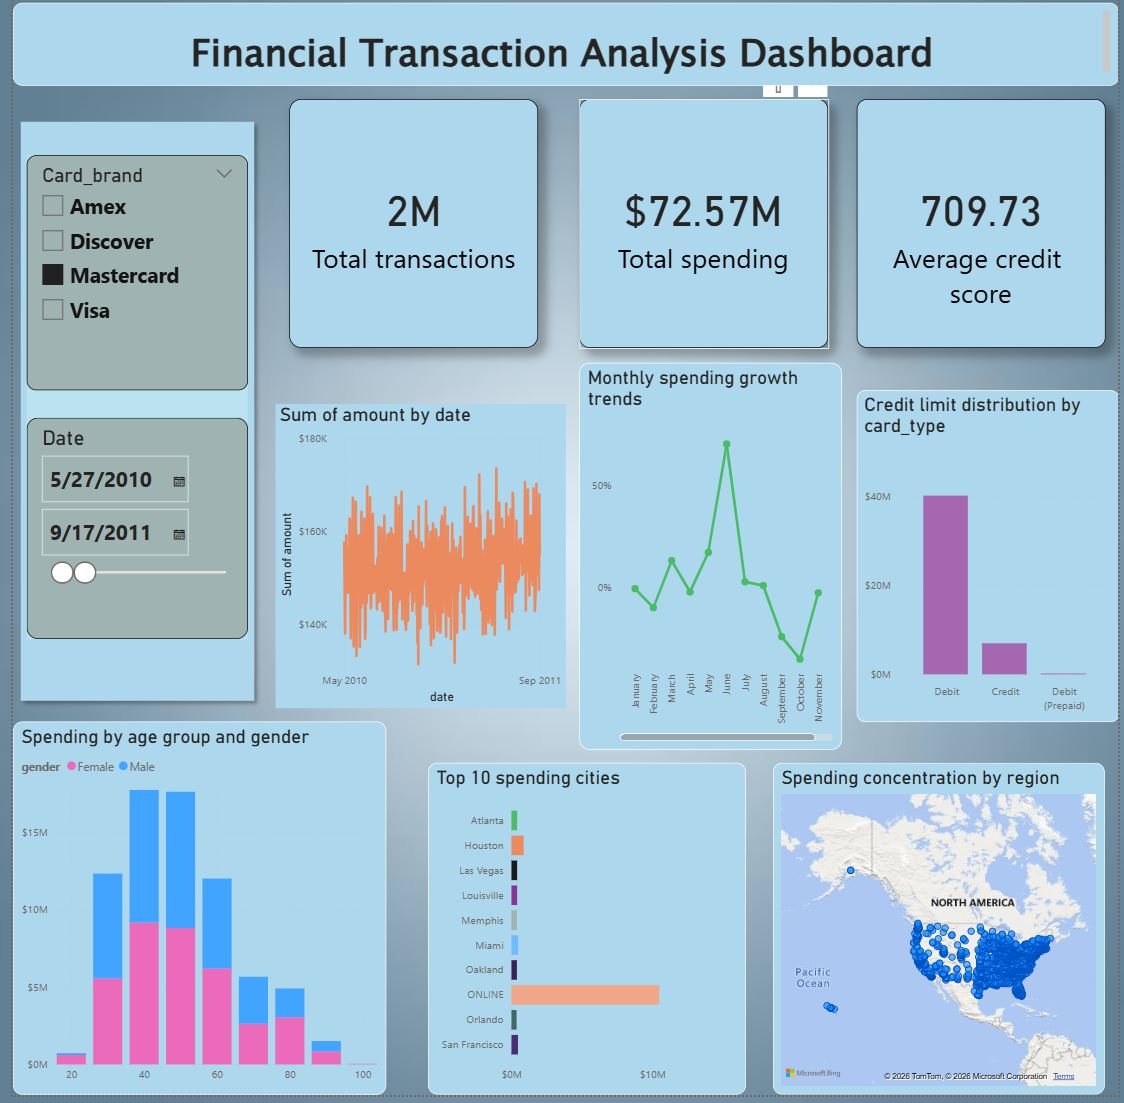

What the dashboard file says about the page in this screenshot:
{"tool":"powerbi","page":{"name":"Page 1","canvas":[1280,1280],"ordinal":0},"visuals":[{"type":"card","fields":{"Values":["transactions_data.Total transactions"]},"box":[320,128,288,288],"z":0},{"type":"slicer","fields":{"Values":["transactions_data.date"]},"box":[16,496,256,256],"z":0,"group":"g1"},{"type":"slicer","fields":{"Values":["cards_data.card_brand"]},"box":[16,192,256,272],"z":1000,"group":"g1"},{"type":"card","fields":{"Values":["transactions_data.Total spending"]},"box":[656,128,288,288],"z":1000},{"type":"card","fields":{"Values":["users_data.Average credit score"]},"box":[976,128,288,288],"z":2000},{"type":"barChart","title":"Top 10 spending cities","fields":{"Category":["transactions_data.merchant_city","transactions_data.date.Variation.Date Hierarchy.Year"],"Y":["Sum(transactions_data.amount)"]},"box":[480,896,368,384],"z":3000},{"type":"map","title":"Spending concentration by region","fields":{"Y":["users_data.latitude"],"X":["users_data.longitude"]},"box":[880,896,384,384],"z":4000},{"type":"columnChart","title":"Credit limit distribution by card_type","fields":{"Category":["cards_data.card_type"],"Y":["Sum(cards_data.credit_limit)"]},"box":[976,464,304,384],"z":5000},{"type":"shape","box":[0,144,288,688],"z":5500},{"type":"columnChart","title":"Spending by age group and gender","fields":{"Category":["users_data.current_age (bins)"],"Y":["Sum(transactions_data.amount)"],"Series":["users_data.gender"]},"box":[0,848,432,432],"z":6000},{"type":"textbox","box":[0,16,1280,96],"z":7000},{"type":"lineChart","title":"Monthly spending growth trends","fields":{"Category":["DateTable.month name"],"Y":["transactions_data.mom"]},"box":[656,432,304,448],"z":8000},{"type":"group","id":"g1","title":"Group 1","box":[16,192,256,560],"z":9000},{"type":"lineChart","fields":{"Category":["transactions_data.date"],"Y":["Sum(transactions_data.amount)"]},"box":[304,480,336,352],"z":10000}]}

Visuals, with their boxes in screenshot pixels (x1, y1, x2, y2), scaled from the page's 1280x1280 canvas onto the 1124x1103 screenshot:
card - transactions_data.Total transactions: left=281, top=110, right=534, bottom=358
slicer - transactions_data.date: left=14, top=427, right=239, bottom=648
slicer - cards_data.card_brand: left=14, top=165, right=239, bottom=400
card - transactions_data.Total spending: left=576, top=110, right=829, bottom=358
card - users_data.Average credit score: left=857, top=110, right=1110, bottom=358
"Top 10 spending cities" barChart: left=422, top=772, right=745, bottom=1102
"Spending concentration by region" map: left=773, top=772, right=1110, bottom=1102
"Credit limit distribution by card_type" columnChart: left=857, top=400, right=1123, bottom=731
shape: left=0, top=124, right=253, bottom=717
"Spending by age group and gender" columnChart: left=0, top=731, right=379, bottom=1102
textbox: left=0, top=14, right=1123, bottom=97
"Monthly spending growth trends" lineChart: left=576, top=372, right=843, bottom=758
"Group 1" group: left=14, top=165, right=239, bottom=648
lineChart - transactions_data.date x Sum(transactions_data.amount): left=267, top=414, right=562, bottom=717
